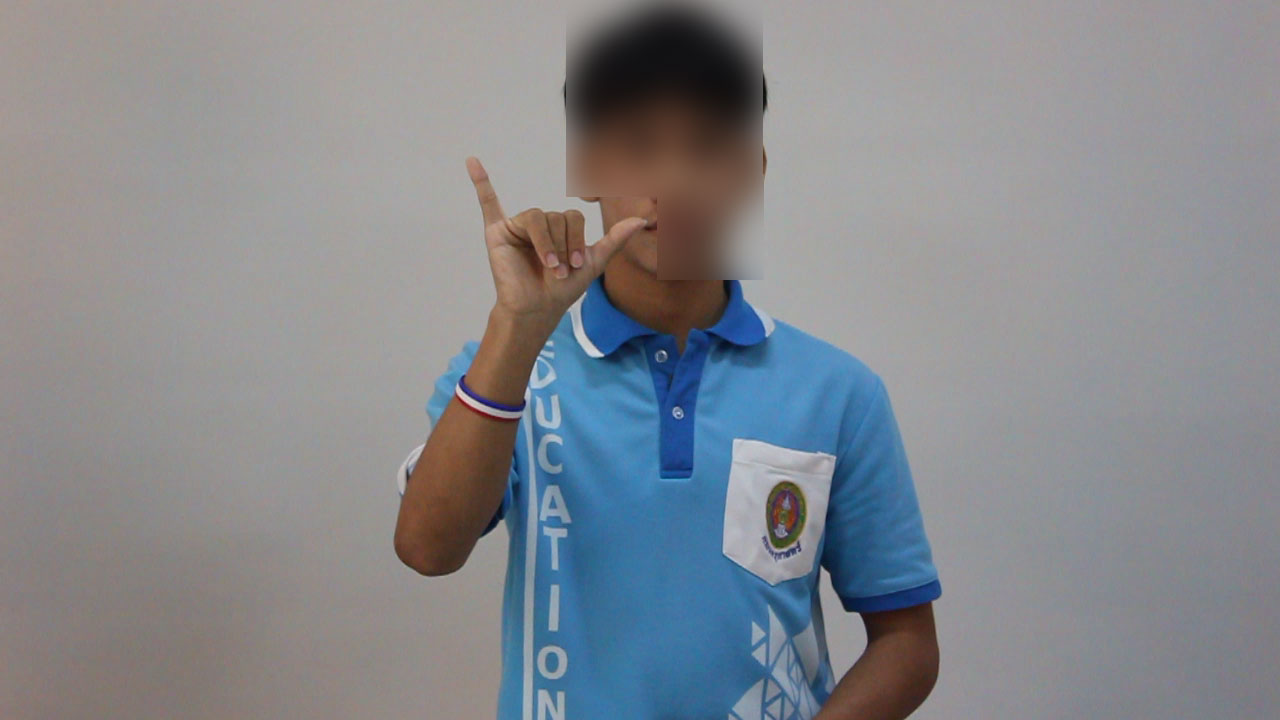yor: (446, 147, 654, 329)
